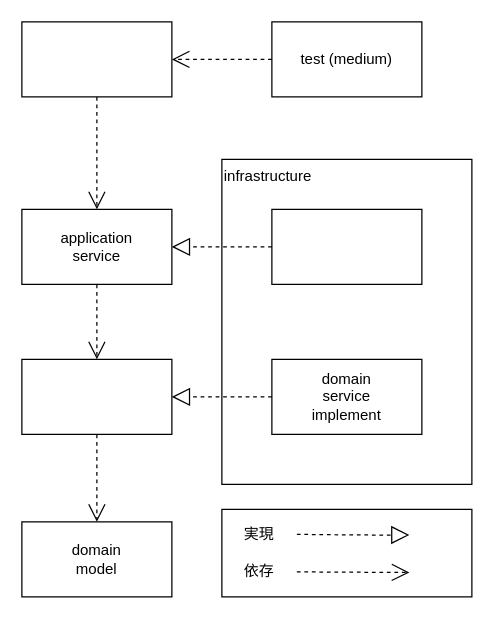
The diagram is 494 pixels wide and 619 high, and some of its shapes have lost their labels. The centre of each missing label's shape, as x and y in pixels:
application service implement: [346,246]
domain service: [96,396]
user interface: [96,59]
